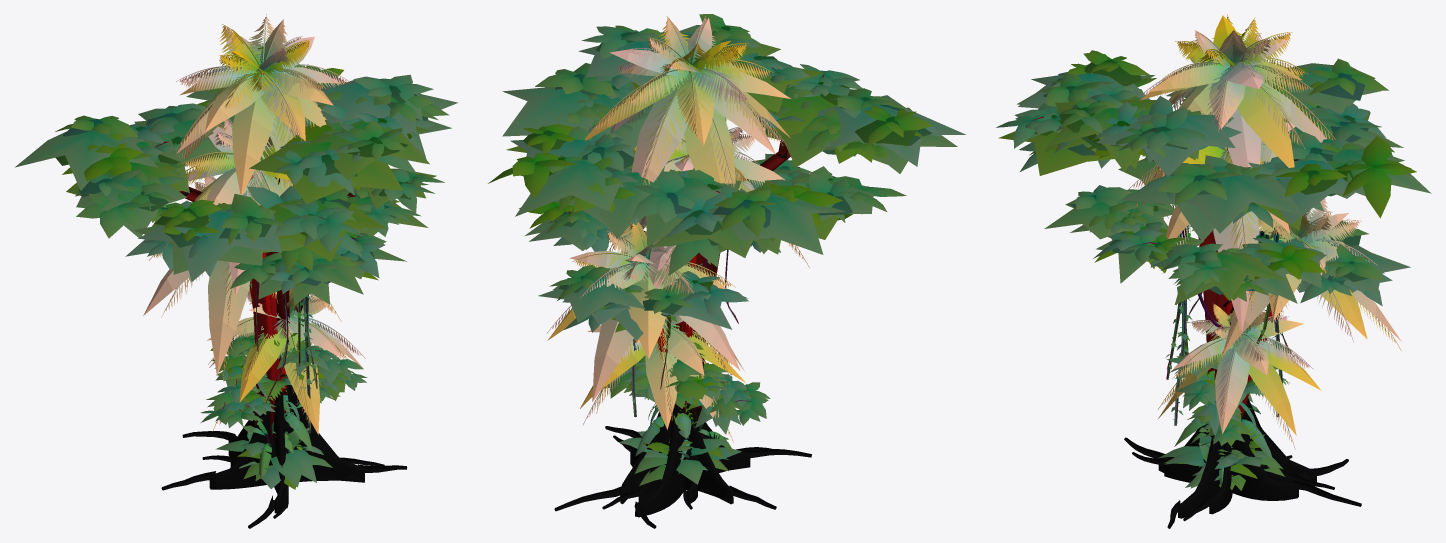
File: flora.fbx
The picture shows the model from 3 angles, left to right: view 1: azimuth 30°, elevation 25°; view 2: azimuth 150°, elevation 25°; view 3: azimuth 270°, elevation 25°; orthographic projection. The views are drawn at different scales.
Visible parts, largest first — view 1: CanopyA_hi, CanopyA_lo, PalmTall_lo, PalmTall_hi, CanopyB_hi, PalmYoung_lo, CanopyB_lo, PalmLean_lo, PalmYoung_hi, Understory_hi, Understory_lo, PalmMid_hi (+6 smaller); view 2: CanopyA_hi, CanopyA_lo, PalmTall_lo, PalmTall_hi, CanopyB_hi, PalmLean_lo, CanopyB_lo, PalmLean_hi, PalmYoung_lo, Understory_hi, Bush1_hi, Understory_lo (+5 smaller); view 3: CanopyA_hi, CanopyA_lo, CanopyB_hi, PalmTall_lo, CanopyB_lo, PalmTall_hi, PalmYoung_lo, PalmYoung_hi, PalmLean_lo, PalmLean_hi, PalmMid_lo, Bush1_hi (+6 smaller).
Boxes of the visible parts, x1,y1,x2,y2 form: CanopyA_hi: (55,46,449,528); CanopyA_lo: (15,80,457,512); PalmTall_lo: (176,20,339,379); PalmTall_hi: (176,14,350,380); CanopyB_hi: (143,169,444,518); PalmYoung_lo: (207,287,363,434); CanopyB_lo: (125,168,436,492); PalmLean_lo: (143,177,332,375); PalmYoung_hi: (208,289,365,431); Understory_hi: (200,335,367,424); Understory_lo: (206,334,360,427); PalmMid_hi: (165,118,306,426); CanopyA_hi: (488,14,942,528); CanopyA_lo: (502,31,966,514); PalmTall_lo: (585,17,790,331); PalmTall_hi: (590,16,786,332); CanopyB_hi: (519,153,811,509); PalmLean_lo: (547,221,744,415); CanopyB_lo: (521,159,801,503); PalmLean_hi: (546,223,735,422); PalmYoung_lo: (580,316,745,435); Understory_hi: (593,334,770,426); Bush1_hi: (619,431,741,485); Understory_lo: (604,356,751,433); CanopyA_hi: (996,50,1416,528); CanopyA_lo: (998,63,1431,518); CanopyB_hi: (1065,155,1392,521); PalmTall_lo: (1140,15,1326,314); CanopyB_lo: (1044,156,1410,513); PalmTall_hi: (1131,14,1335,315); PalmYoung_lo: (1157,304,1321,435); PalmYoung_hi: (1158,304,1313,449); PalmLean_lo: (1222,212,1401,418); PalmLean_hi: (1217,198,1401,418); PalmMid_lo: (1151,122,1320,332); Bush1_hi: (1158,434,1284,488).
Size of the model in its own units: 18.94 by 21.78 by 18.63.
